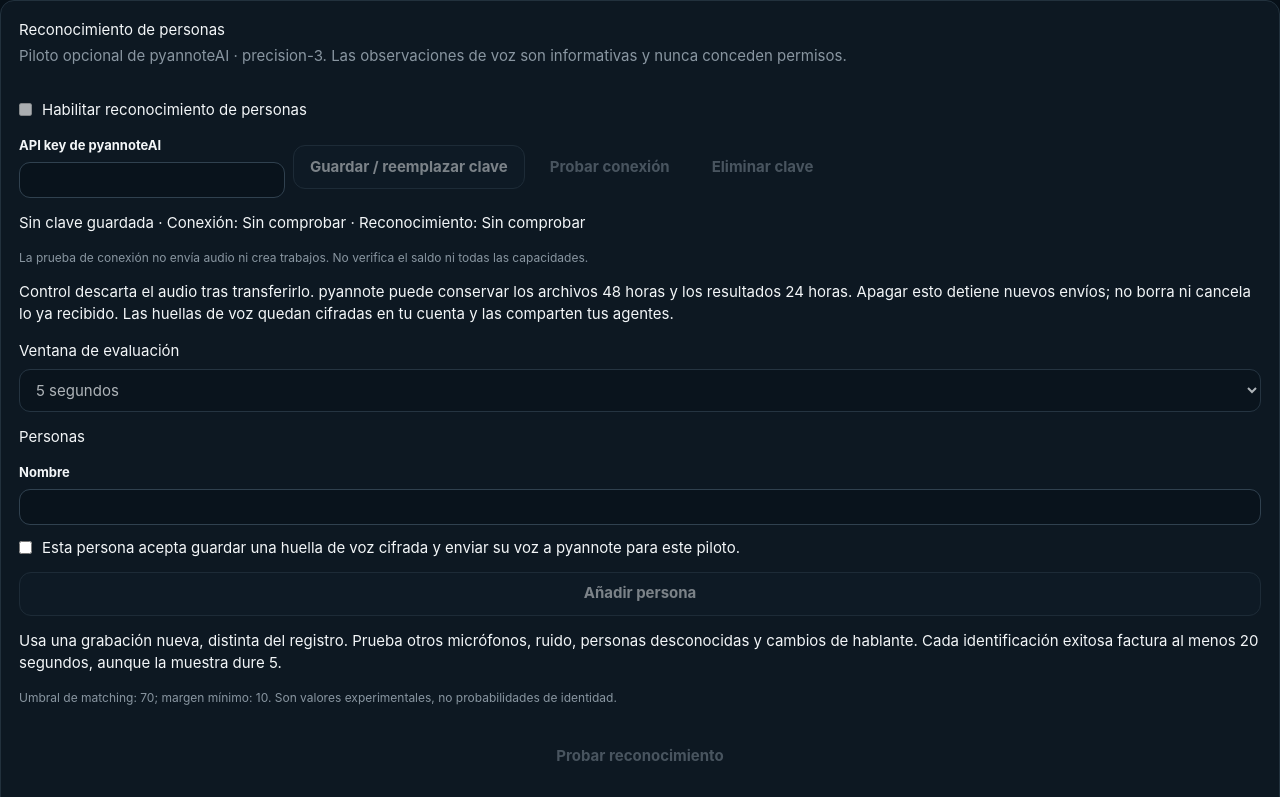
it: requires explicit key and enable actions, clears the key field and uses the no-audio connection test
Check: the text "Sin clave guardada" is shown, box [19, 213, 154, 232]
Check: the checkbox labelled "Habilitar reconocimiento de personas" is not checked, box [19, 103, 32, 116]
Type "private-key" into the password field labelled "API key de pyannoteAI" at (152,180), box [19, 162, 285, 198]
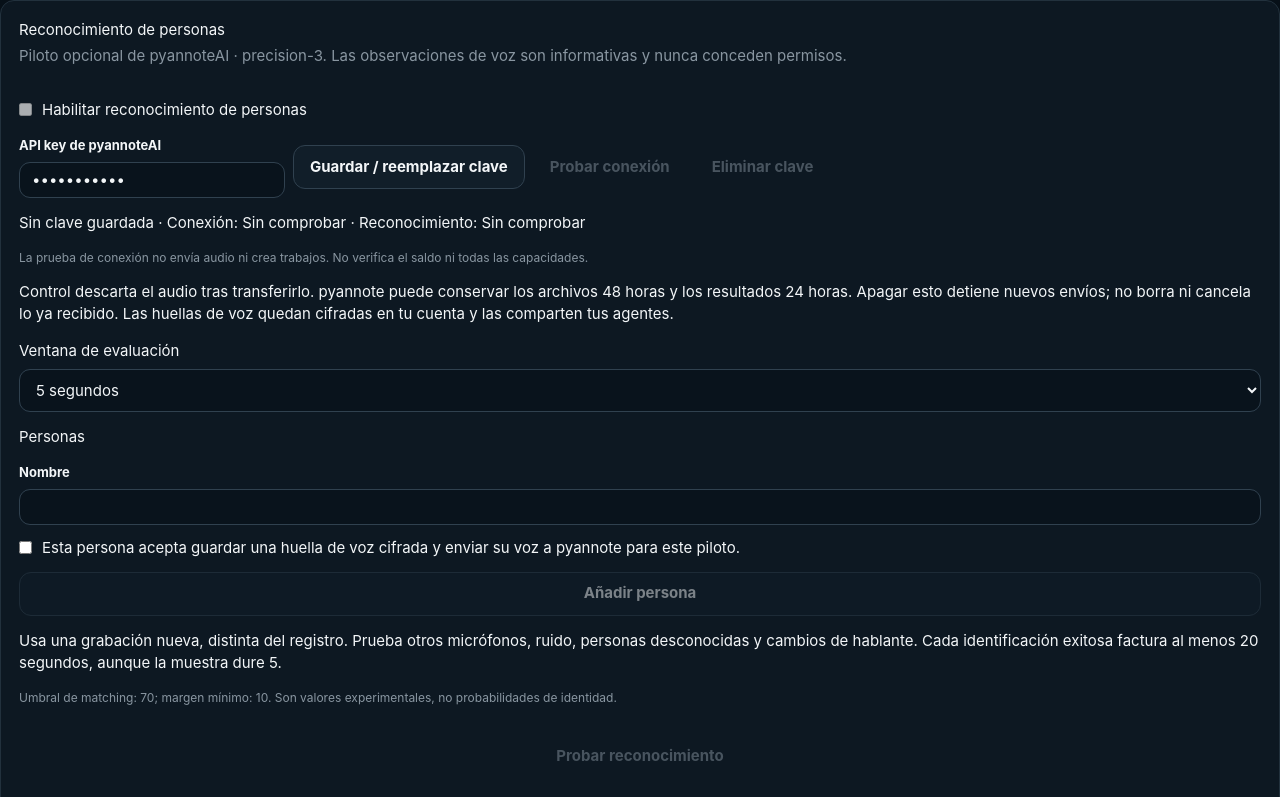
Click the button "Guardar / reemplazar clave" at (409,167), box [293, 145, 525, 189]
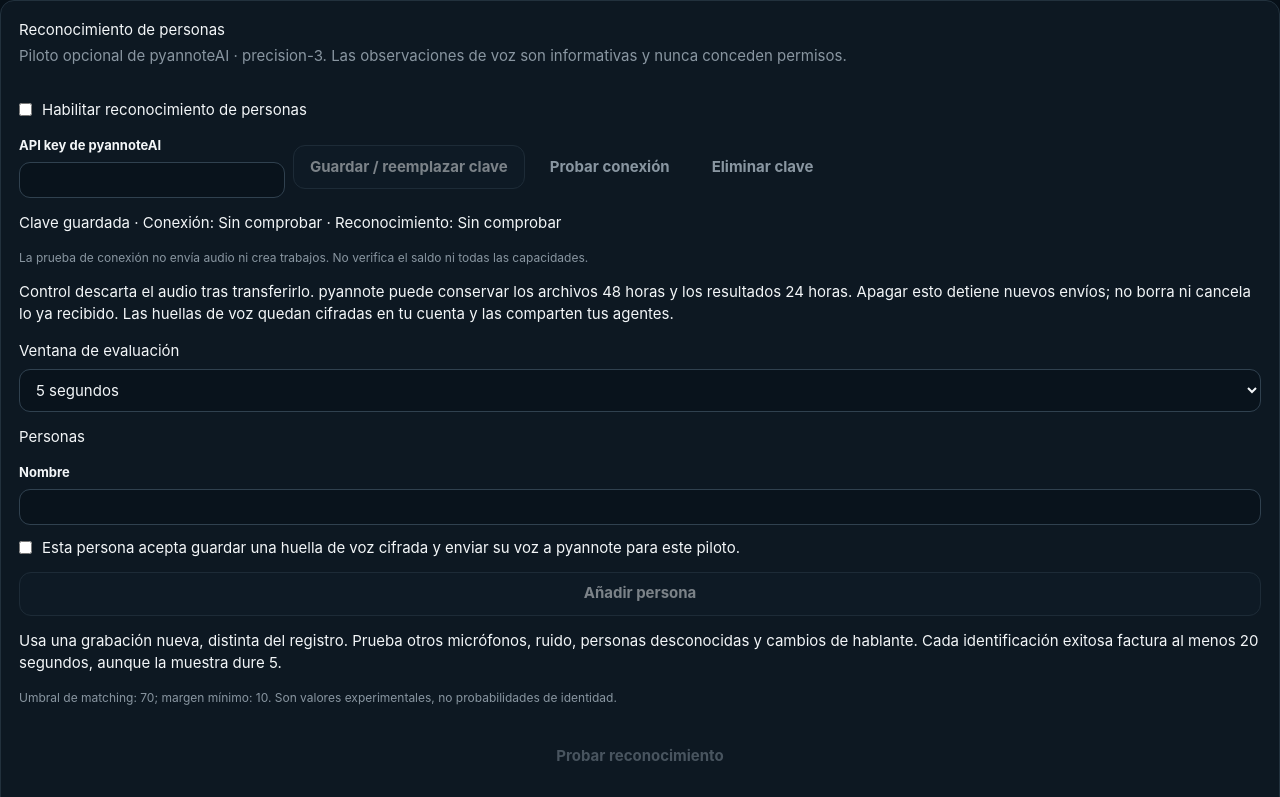
Check: the checkbox labelled "Habilitar reconocimiento de personas" is enabled, box [19, 103, 32, 116]
Check: the password field labelled "API key de pyannoteAI" is empty, box [19, 162, 285, 198]
Click the button "Probar conexión" at (610,167), box [533, 145, 687, 189]
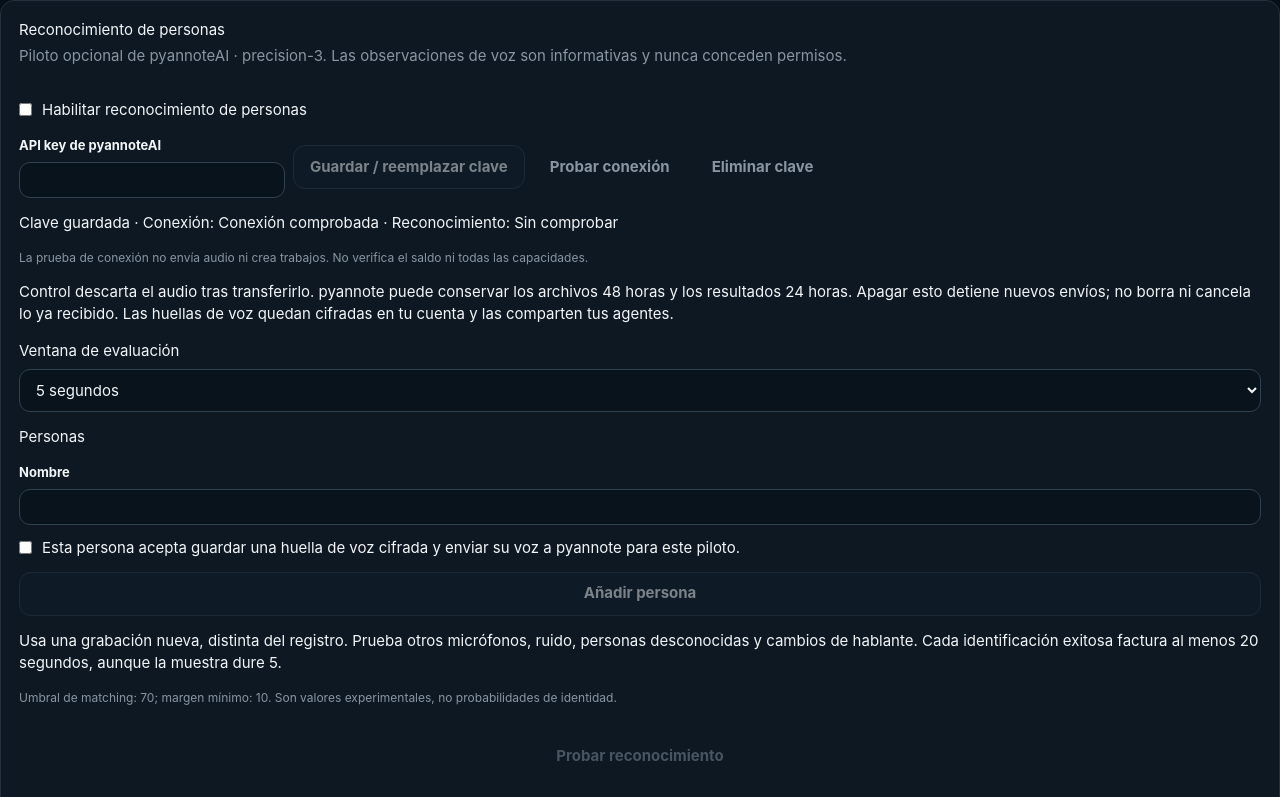
Check: the checkbox labelled "Habilitar reconocimiento de personas" is not checked, box [19, 103, 32, 116]
Check: the text "Conexión comprobada" is shown, box [218, 213, 379, 232]
